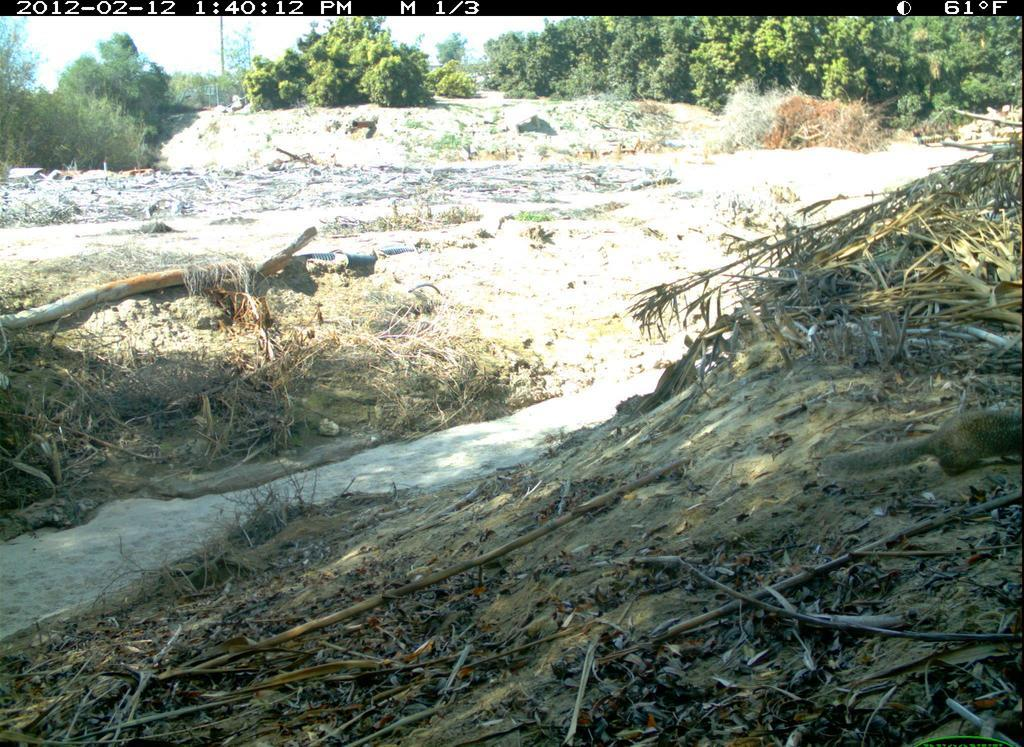squirrel: (802, 388, 1023, 501)
